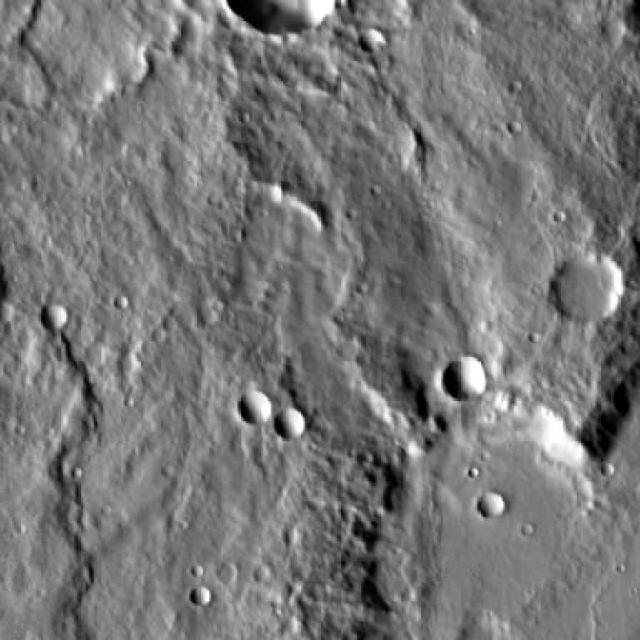crater: (371, 406, 635, 640), (557, 256, 629, 326), (217, 0, 341, 37), (445, 361, 486, 402), (470, 609, 524, 640), (276, 412, 304, 440), (485, 493, 509, 518), (42, 304, 66, 328), (245, 395, 269, 419), (367, 29, 388, 51), (194, 588, 212, 606), (217, 565, 235, 583)
